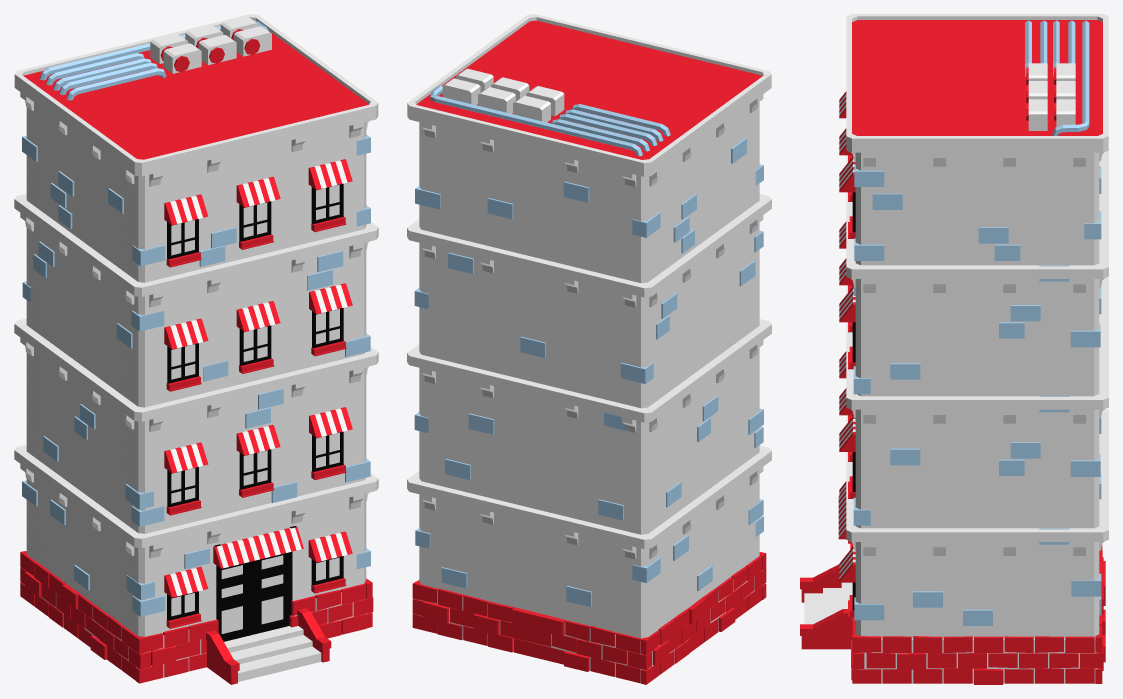
The model's file is building_quaternius_4Story.glb.
The picture shows the model from 3 angles, left to right: view 1: azimuth 30°, elevation 25°; view 2: azimuth 150°, elevation 25°; view 3: azimuth 270°, elevation 25°; orthographic projection. The views are drawn at different scales.
Bounding box in the file's own units: 2.42 × 5.09 × 2.53.
Materials: 1 (1 with a texture image).
